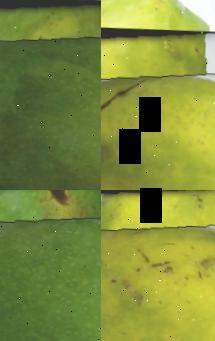PartiallyRipe: (101, 23, 215, 190), (101, 190, 215, 341)
Unripe: (0, 0, 101, 190), (0, 190, 101, 341)
